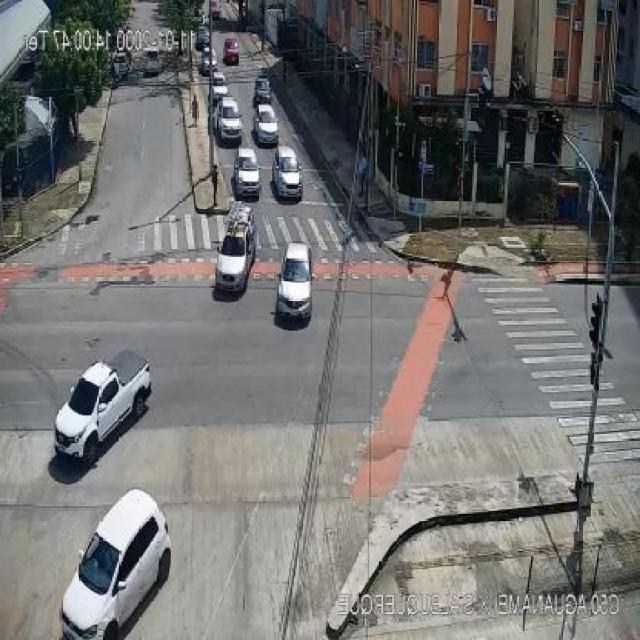Car: (57, 492, 179, 638), (52, 350, 150, 466), (214, 203, 257, 294), (275, 243, 313, 321), (272, 146, 303, 199), (232, 148, 261, 198), (215, 98, 243, 144), (253, 104, 280, 145), (209, 74, 229, 108), (253, 76, 273, 106), (200, 48, 218, 76), (223, 37, 239, 65), (195, 25, 211, 50)
